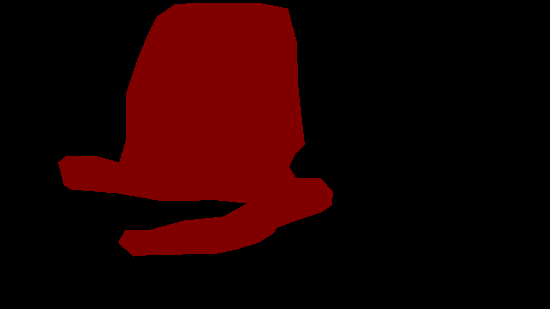fire: (58, 2, 332, 256)
